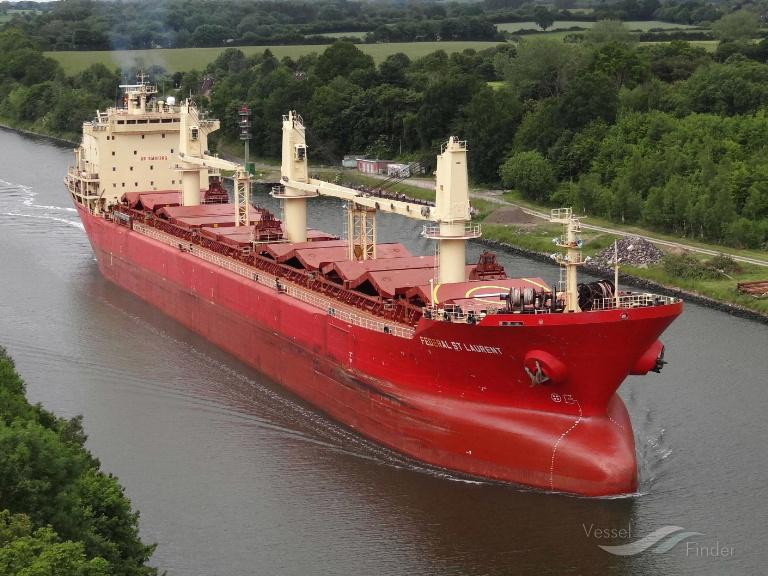OCR: (412, 326, 506, 362)
